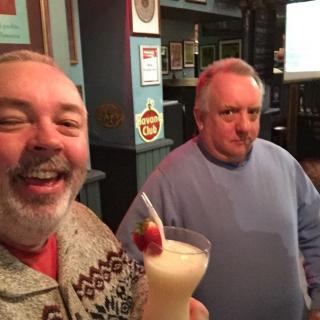Strawberry: (130, 219, 164, 255)
